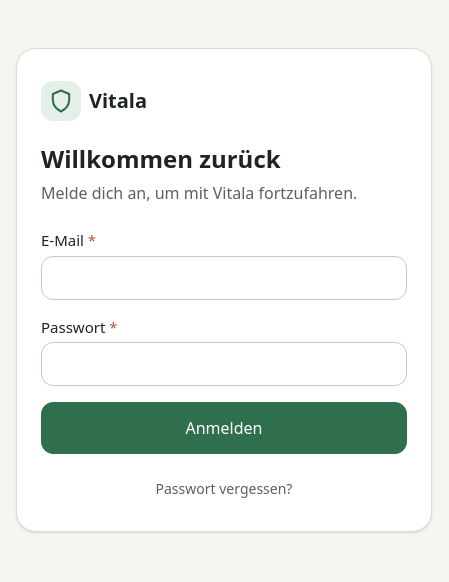
Test: LoginPage › shows a friendly error when sign-in fails
Type "lutz@vitala.test" into the field labelled "E-Mail *" at {"x": 224, "y": 278}, box [41, 256, 407, 300]
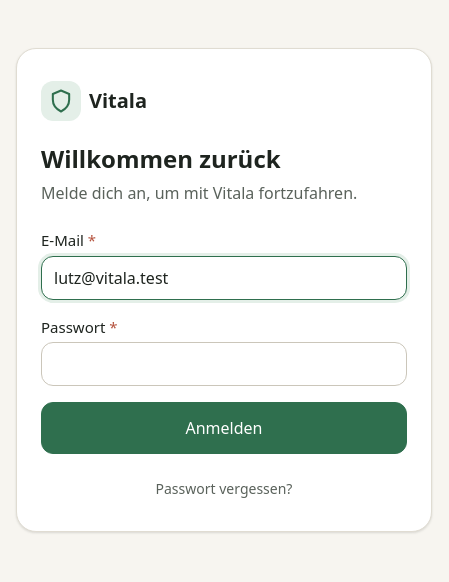
Type "wrong" into the password field labelled "Passwort *" at {"x": 224, "y": 364}, box [41, 342, 407, 386]
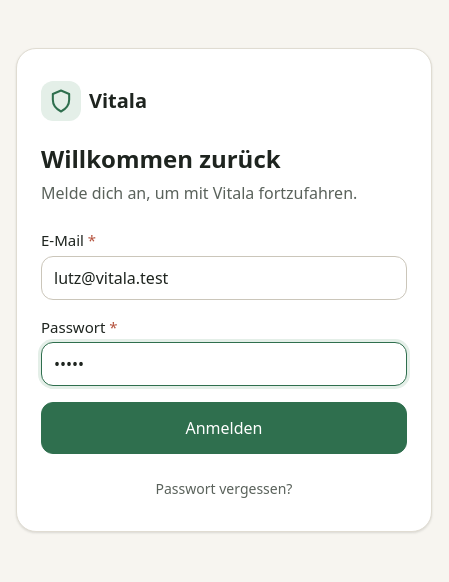
Click the button "Anmelden" at {"x": 224, "y": 428}, box [41, 402, 407, 454]
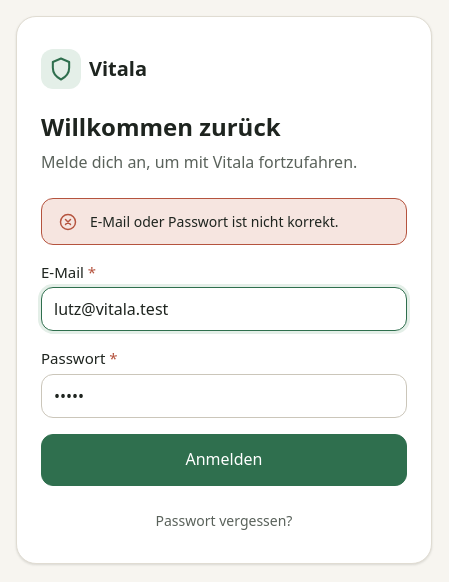
expect the message shows "nicht korrekt": met, box [90, 212, 338, 231]
